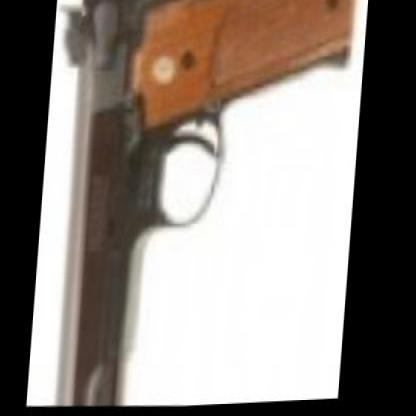pistol: (30, 0, 352, 413)
